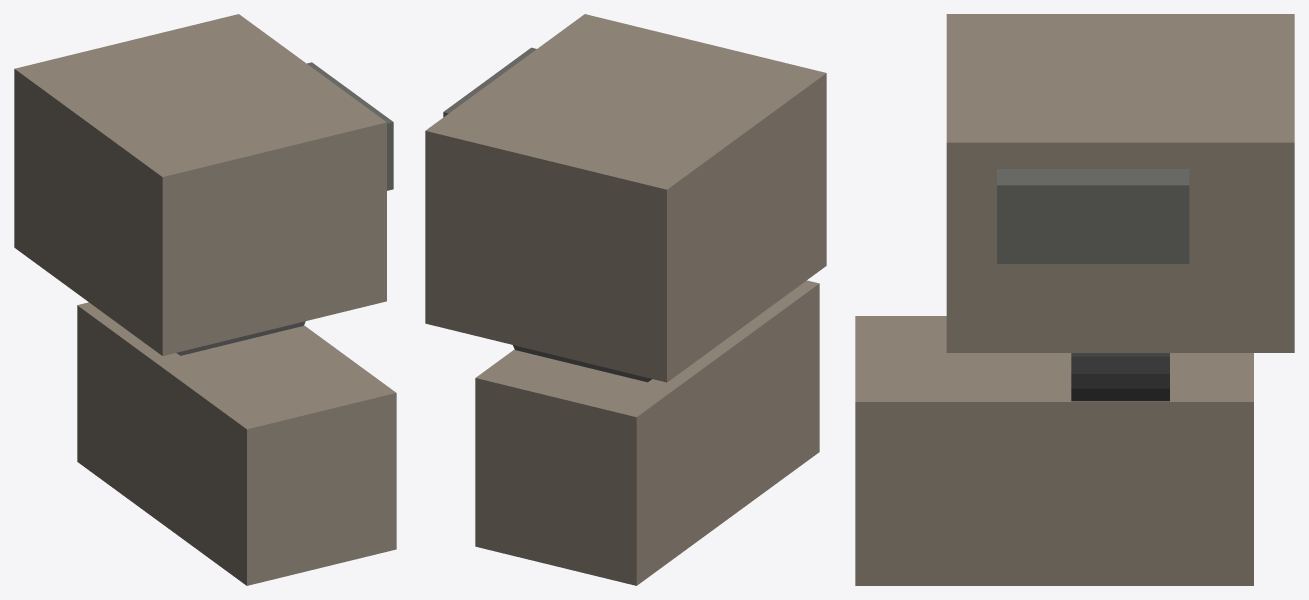
The model's file is arm_right_iron.glb.
The picture shows the model from 3 angles, left to right: view 1: azimuth 30°, elevation 25°; view 2: azimuth 150°, elevation 25°; view 3: azimuth 270°, elevation 25°; orthographic projection. The views are drawn at different scales.
Visible parts, largest first — view 1: geometry_0, geometry_1, geometry_3, geometry_2; view 2: geometry_0, geometry_1, geometry_2, geometry_3; view 3: geometry_0, geometry_1, geometry_3, geometry_2.
Part boxes in pixels (left/top/right/bottom): geometry_0: left=14, top=14, right=386, bottom=355; geometry_1: left=77, top=302, right=396, bottom=585; geometry_3: left=307, top=62, right=393, bottom=190; geometry_2: left=176, top=321, right=305, bottom=355; geometry_0: left=425, top=14, right=826, bottom=382; geometry_1: left=475, top=280, right=819, bottom=585; geometry_2: left=513, top=345, right=651, bottom=382; geometry_3: left=443, top=47, right=536, bottom=117; geometry_0: left=946, top=14, right=1294, bottom=352; geometry_1: left=855, top=316, right=1253, bottom=585; geometry_3: left=997, top=169, right=1189, bottom=263; geometry_2: left=1071, top=353, right=1169, bottom=401.
Size of the model in its own units: 0.6242 by 0.924 by 0.7998.
